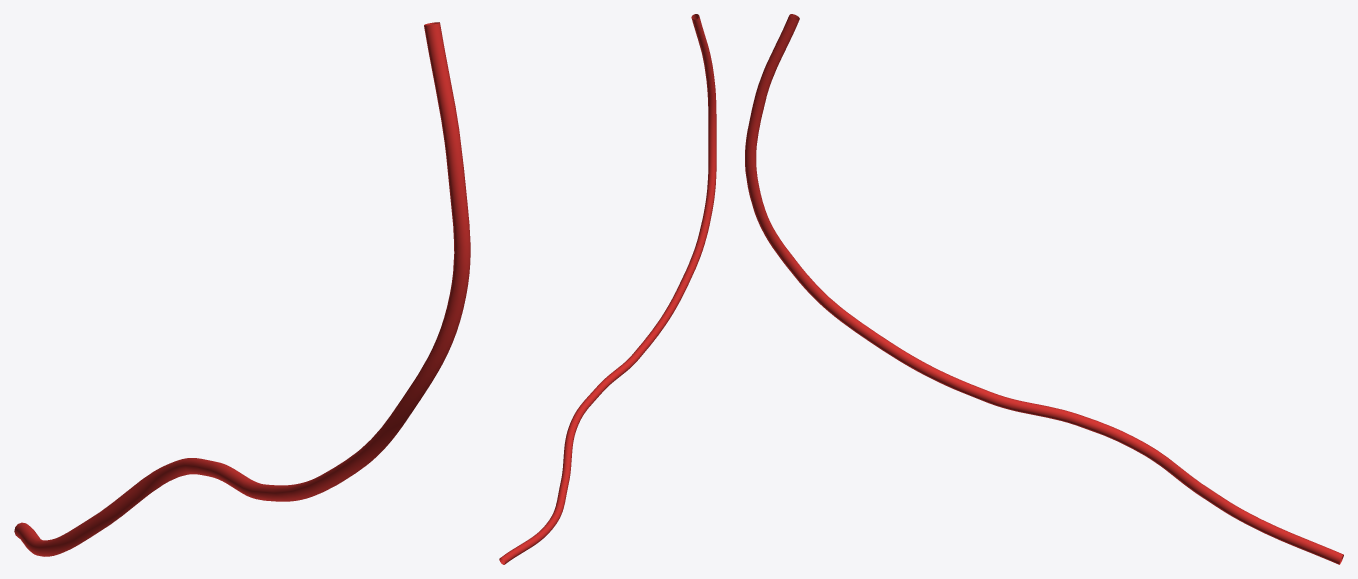
The model's file is circulatorio-anterior-septal-branches-of-anterior-ethmoidal-artery-r.glb.
The picture shows the model from 3 angles, left to right: view 1: azimuth 30°, elevation 25°; view 2: azimuth 150°, elevation 25°; view 3: azimuth 270°, elevation 25°; orthographic projection. The views are drawn at different scales.
Parts seen in each view (by area): view 1: Anterior septal branches of anterior ethmoidal artery.r; view 2: Anterior septal branches of anterior ethmoidal artery.r; view 3: Anterior septal branches of anterior ethmoidal artery.r.
Boxes of the visible parts, bbox=[...] form: Anterior septal branches of anterior ethmoidal artery.r: bbox=[14, 22, 470, 556]; Anterior septal branches of anterior ethmoidal artery.r: bbox=[499, 14, 716, 564]; Anterior septal branches of anterior ethmoidal artery.r: bbox=[745, 14, 1343, 564].
Bounding box in the file's own units: 0.00173 × 0.0216 × 0.0212.
